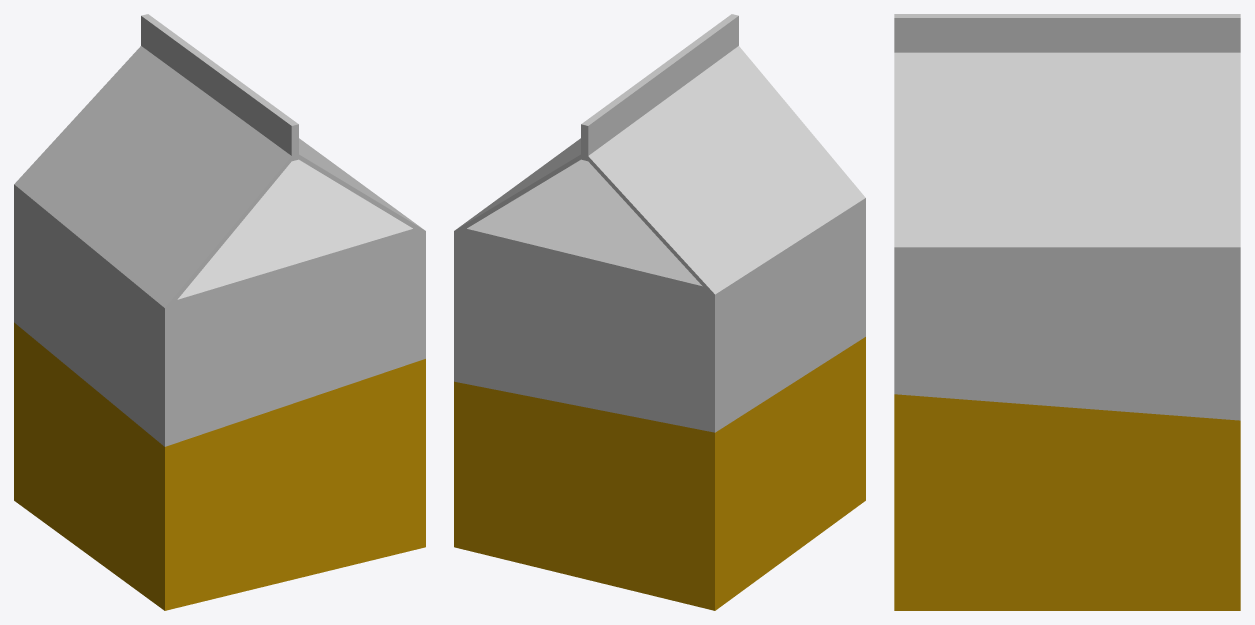
Rendered from SM_Goldfish.fbx.
3 renders of one model, left to right at view 1: azimuth 30°, elevation 25°; view 2: azimuth 150°, elevation 25°; view 3: azimuth 270°, elevation 25°, orthographic. The views are drawn at different scales.
Parts seen in each view (by area): view 1: Goldfish; view 2: Goldfish; view 3: Goldfish.
Boxes of the visible parts, x1=… form: Goldfish: x1=14, y1=14, x2=425, y2=610; Goldfish: x1=454, y1=14, x2=865, y2=610; Goldfish: x1=894, y1=14, x2=1240, y2=610.
Size of the model in its own units: 36.68 by 60.96 by 36.68.
